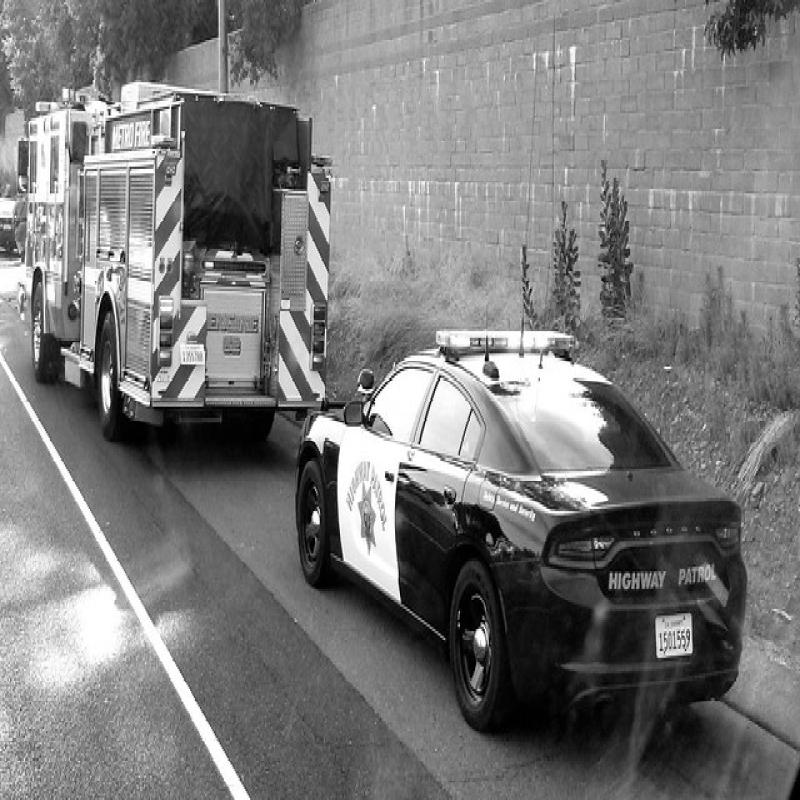AmbulanceSiren: (435, 317, 576, 366)
